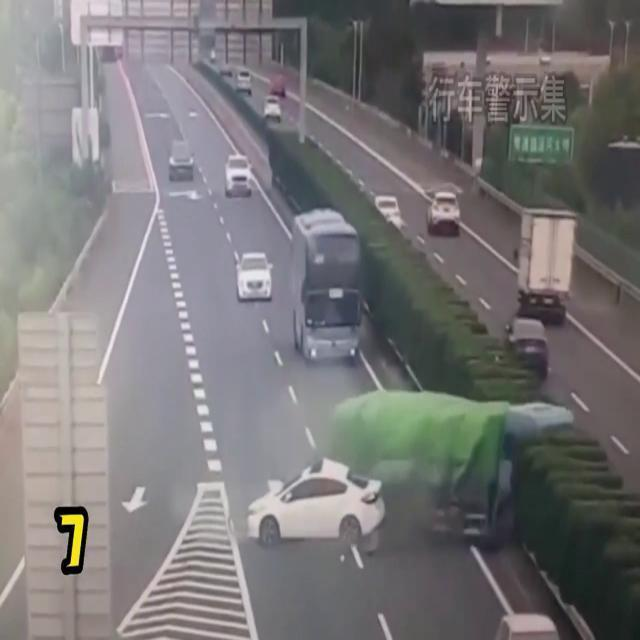accident: (246, 391, 574, 553)
